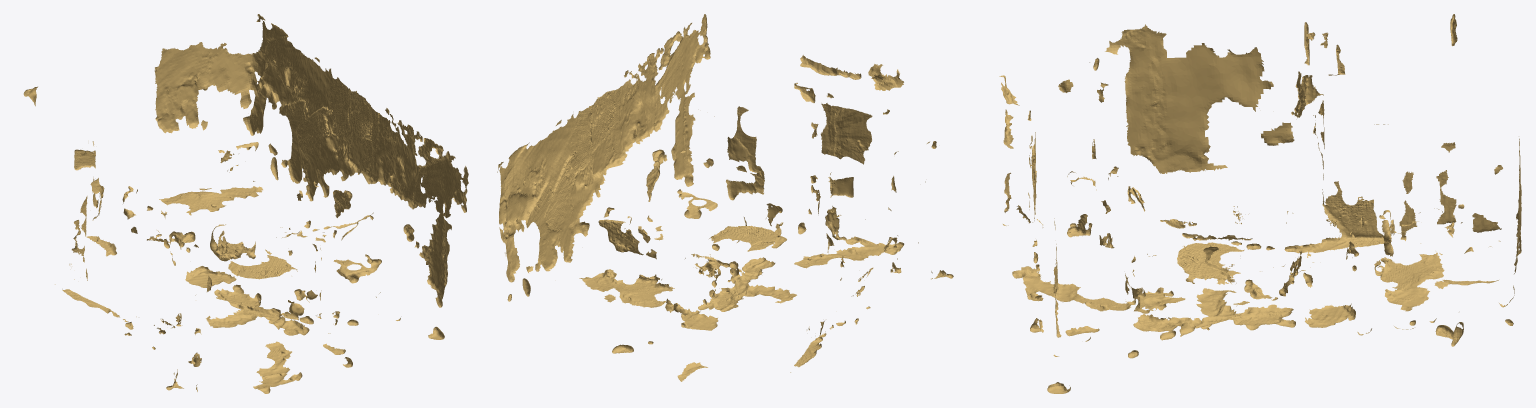
File: mvs-hybrid-additions.glb
3 views of the same model, side by side, from view 1: azimuth 30°, elevation 25°; view 2: azimuth 150°, elevation 25°; view 3: azimuth 270°, elevation 25° (orthographic). The views are drawn at different scales.
Visible parts, largest first — view 1: additions_simple.ply; view 2: additions_simple.ply; view 3: additions_simple.ply.
Part boxes in pixels (x1,y1,x2,y2): additions_simple.ply: (23, 14, 468, 393); additions_simple.ply: (497, 14, 953, 381); additions_simple.ply: (999, 14, 1521, 393).
Size of the model in its own units: 4.24 by 2.79 by 5.7.
